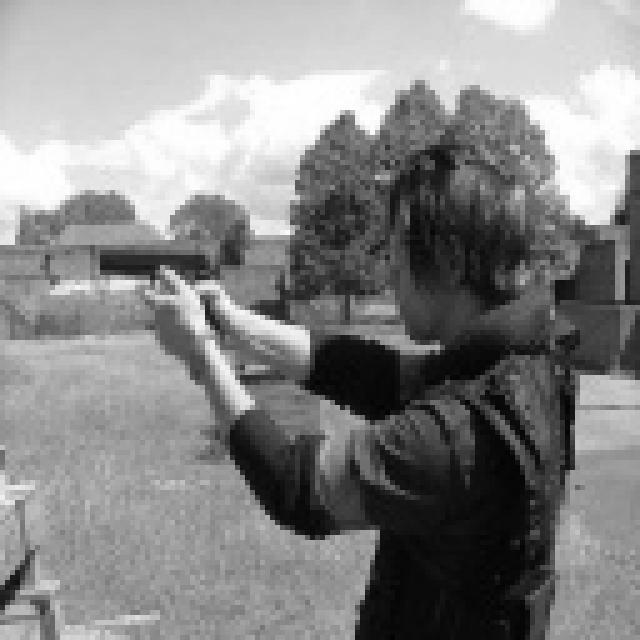Rifle: (82, 221, 274, 356)
